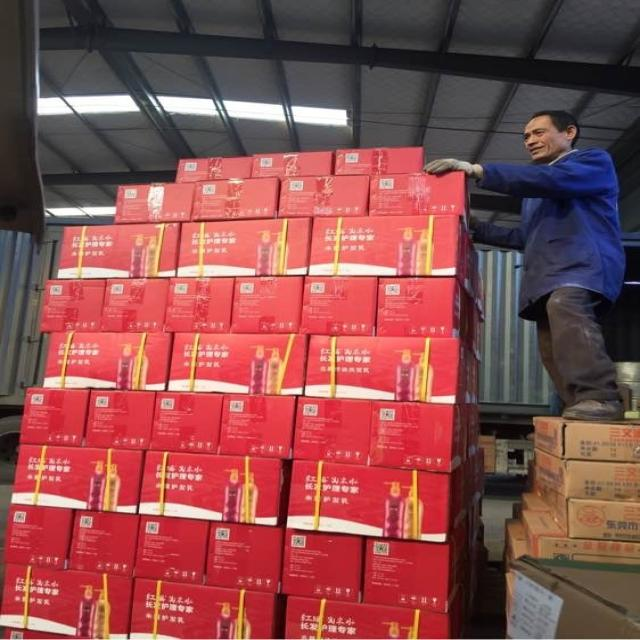box: (286, 460, 467, 544), (137, 449, 293, 526), (306, 334, 468, 404), (508, 556, 640, 640), (309, 215, 468, 284), (0, 563, 136, 640), (129, 577, 285, 640), (10, 444, 146, 514), (362, 524, 465, 613), (167, 333, 311, 396), (175, 218, 315, 277), (43, 333, 174, 392), (284, 596, 450, 640), (58, 222, 182, 280), (366, 401, 465, 473), (522, 509, 640, 567), (281, 528, 366, 604), (533, 483, 640, 543), (206, 521, 286, 595), (533, 448, 640, 502), (368, 172, 470, 227), (133, 515, 211, 585), (293, 397, 372, 465), (218, 393, 298, 459), (376, 276, 462, 337), (533, 416, 640, 463), (66, 510, 141, 577), (146, 391, 225, 454), (2, 504, 75, 570), (300, 276, 379, 335), (81, 389, 156, 450), (18, 387, 91, 447), (230, 277, 305, 335), (191, 177, 282, 222), (163, 278, 235, 333), (278, 176, 369, 218), (101, 279, 170, 333), (39, 279, 107, 333), (114, 183, 196, 224), (335, 147, 424, 176), (249, 151, 335, 179), (500, 517, 533, 575), (1, 627, 109, 640), (448, 579, 470, 640), (465, 447, 484, 515), (462, 497, 483, 552), (208, 156, 253, 180), (463, 234, 478, 300), (465, 403, 479, 463), (466, 340, 479, 404), (459, 289, 475, 340), (175, 159, 208, 183), (470, 300, 482, 361), (479, 437, 495, 473), (522, 492, 549, 509), (476, 270, 484, 313)
